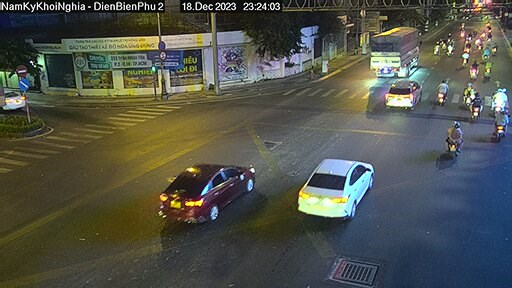car: (154, 149, 257, 225), (293, 147, 373, 220), (388, 76, 423, 113)
motorbike: (446, 118, 463, 158), (436, 77, 448, 108)
truck: (364, 16, 430, 73)
